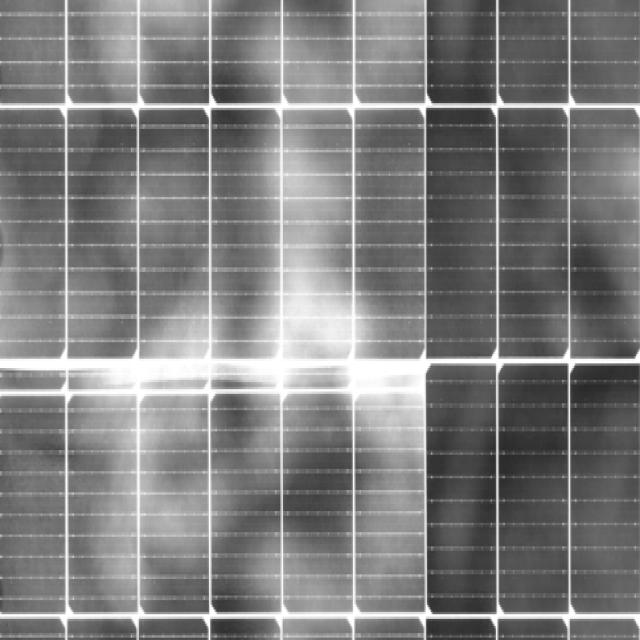MISALIGNMENT: (56, 342, 432, 428)
